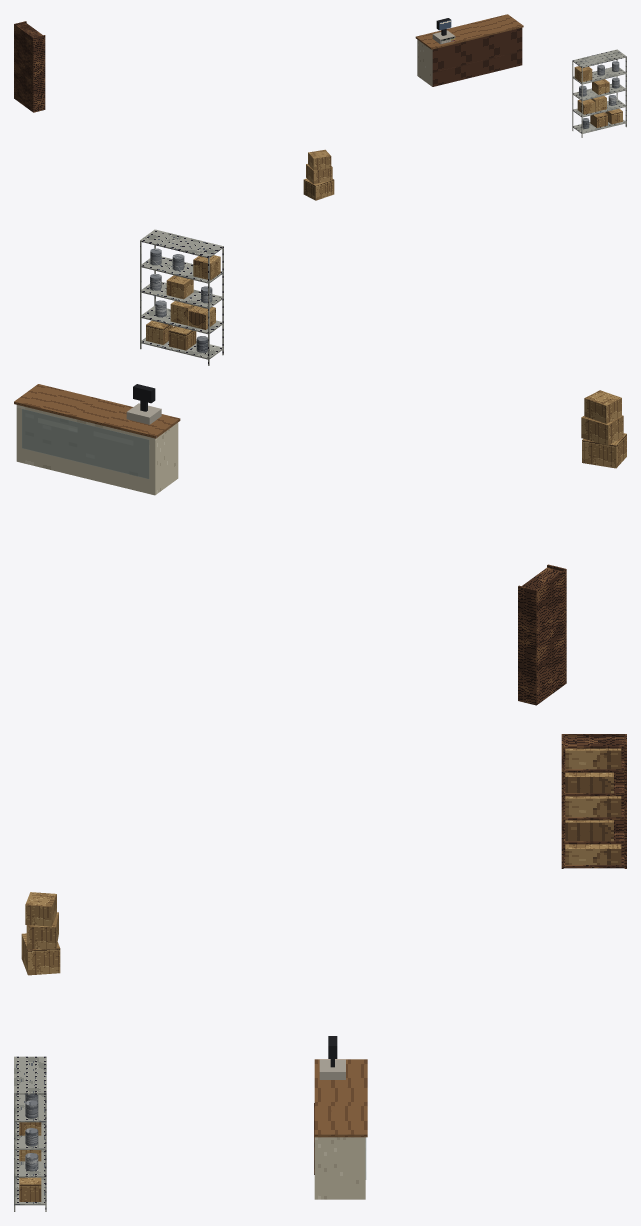
The model's file is COM_Storefront_A_Furnishing.glb.
The picture shows the model from 3 angles, top to bottom: view 1: azimuth 30°, elevation 25°; view 2: azimuth 150°, elevation 25°; view 3: azimuth 270°, elevation 25°; orthographic projection. The views are drawn at different scales.
Visible parts, largest first — view 1: COM_Storefront_A_Furnishing_Mesh; view 2: COM_Storefront_A_Furnishing_Mesh; view 3: COM_Storefront_A_Furnishing_Mesh.
Boxes of the visible parts, x1,y1,x2,y2 form: COM_Storefront_A_Furnishing_Mesh: [14, 14, 626, 200]; COM_Storefront_A_Furnishing_Mesh: [14, 229, 626, 705]; COM_Storefront_A_Furnishing_Mesh: [14, 734, 626, 1211].
Size of what is drawn, in the model's own units: 11.49 by 1.9 by 8.44.
Materials: 6 (6 with a texture image).
